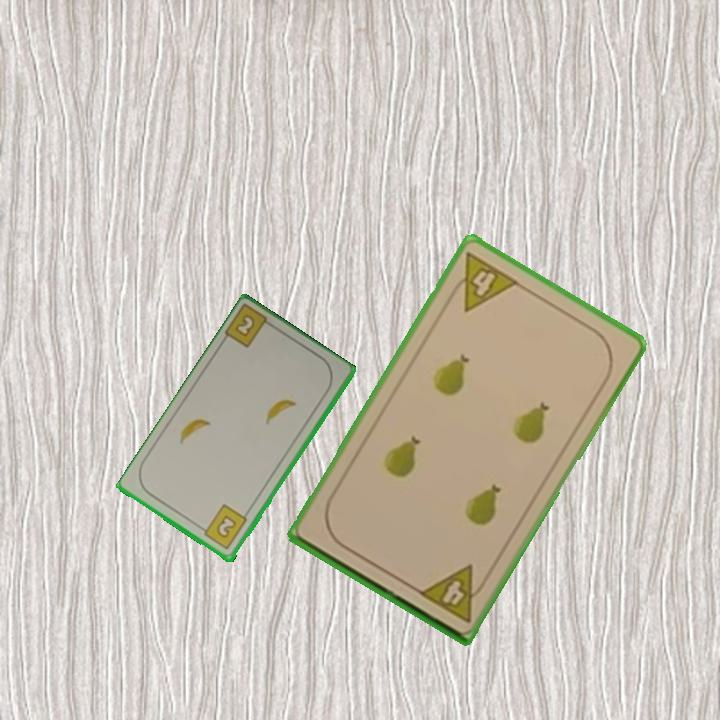2b: (196, 501, 250, 553), (221, 303, 279, 351)
4p: (443, 248, 522, 315), (415, 561, 491, 625)
